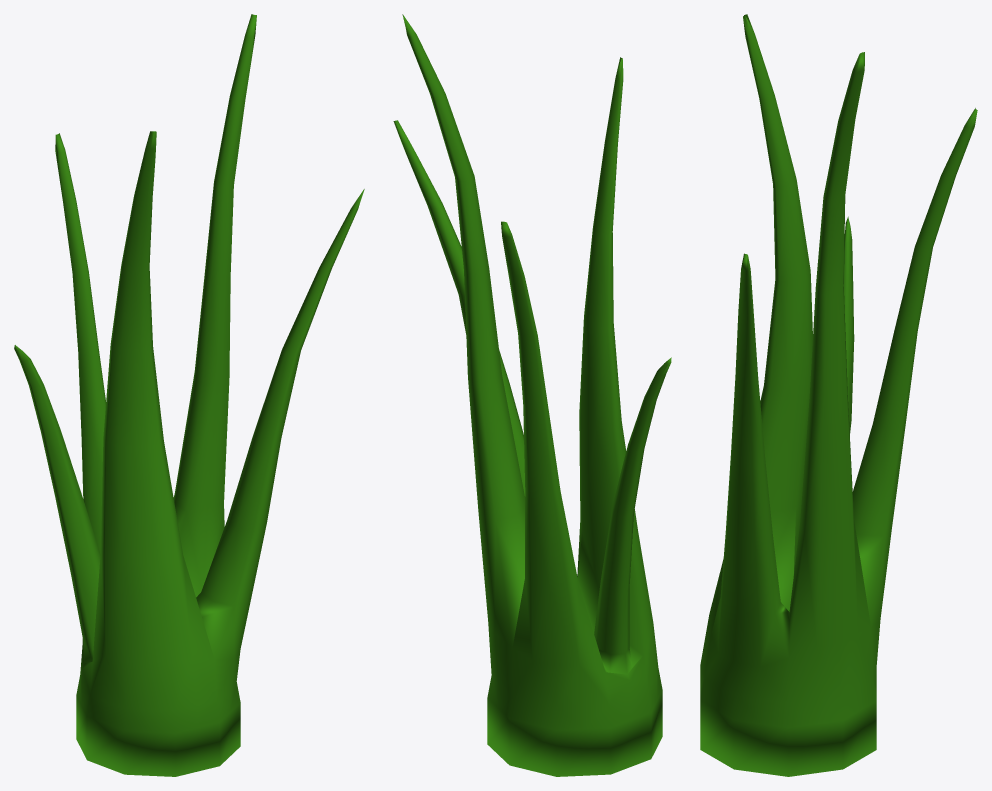
Rendered from onion1.fbx.
3 renders of one model, left to right at view 1: azimuth 30°, elevation 25°; view 2: azimuth 150°, elevation 25°; view 3: azimuth 270°, elevation 25°, orthographic. The views are drawn at different scales.
Visible parts, largest first — view 1: onion1; view 2: onion1; view 3: onion1.
Boxes of the visible parts, x1=… form: onion1: x1=14, y1=14, x2=364, y2=776; onion1: x1=393, y1=14, x2=671, y2=776; onion1: x1=700, y1=14, x2=977, y2=776.
Size of the model in its own units: 0.1687 by 0.3548 by 0.118.
Materials: 1 (1 with a texture image).
